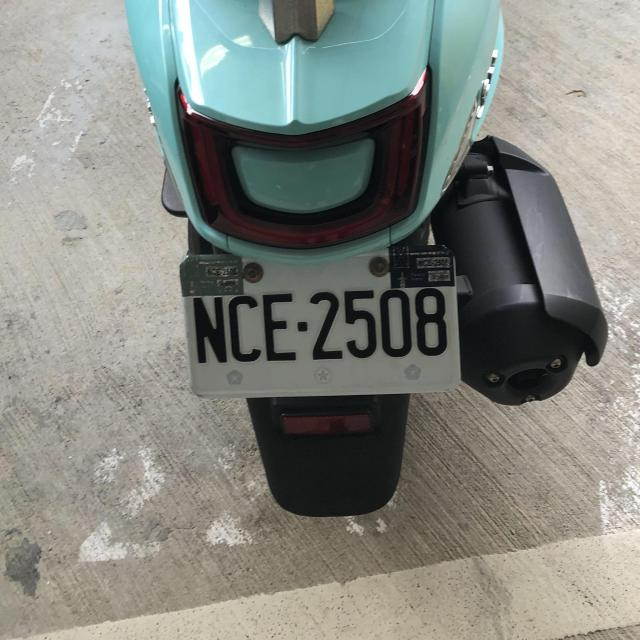W: (173, 232, 463, 403)
